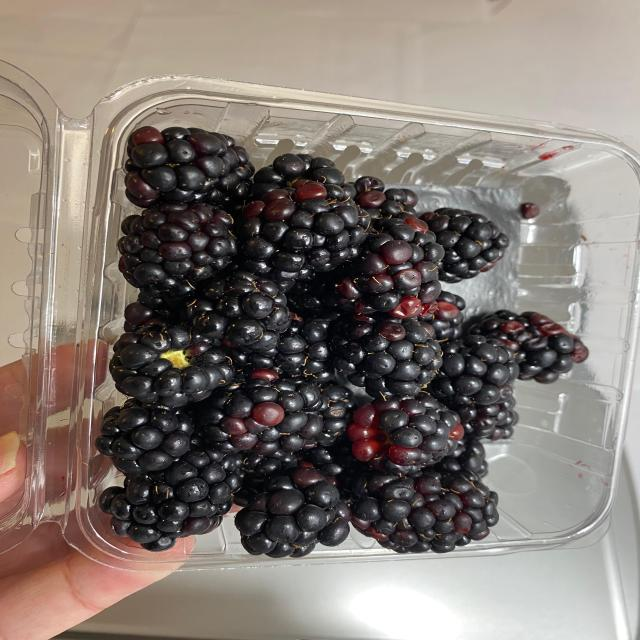blackberries: (109, 123, 576, 555)
